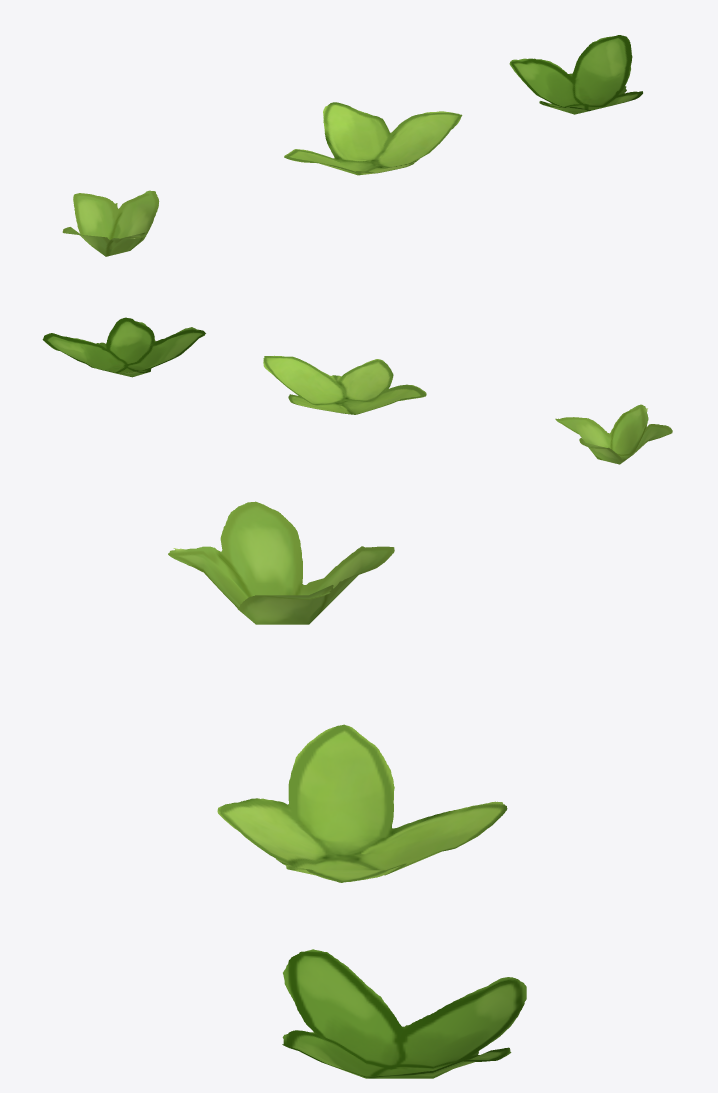
The model's file is shrubs.fbx.
The picture shows the model from 3 angles, top to bottom: view 1: azimuth 30°, elevation 25°; view 2: azimuth 150°, elevation 25°; view 3: azimuth 270°, elevation 25°; orthographic projection. The views are drawn at different scales.
Visible parts, largest first — view 1: shrub1, shrub2, shrub3; view 2: shrub1, shrub2, shrub3; view 3: shrub1, shrub2, shrub3.
Part boxes in pixels (left/top/right/bottom): shrub1: left=284, top=102, right=462, bottom=175; shrub2: left=509, top=35, right=642, bottom=114; shrub3: left=62, top=190, right=159, bottom=256; shrub1: left=263, top=355, right=426, bottom=414; shrub2: left=42, top=317, right=205, bottom=377; shrub3: left=555, top=404, right=672, bottom=464; shrub1: left=217, top=724, right=507, bottom=882; shrub2: left=282, top=949, right=526, bottom=1078; shrub3: left=168, top=501, right=394, bottom=624.
Bounding box in the file's own units: 4.54 × 0.2553 × 1.4.
